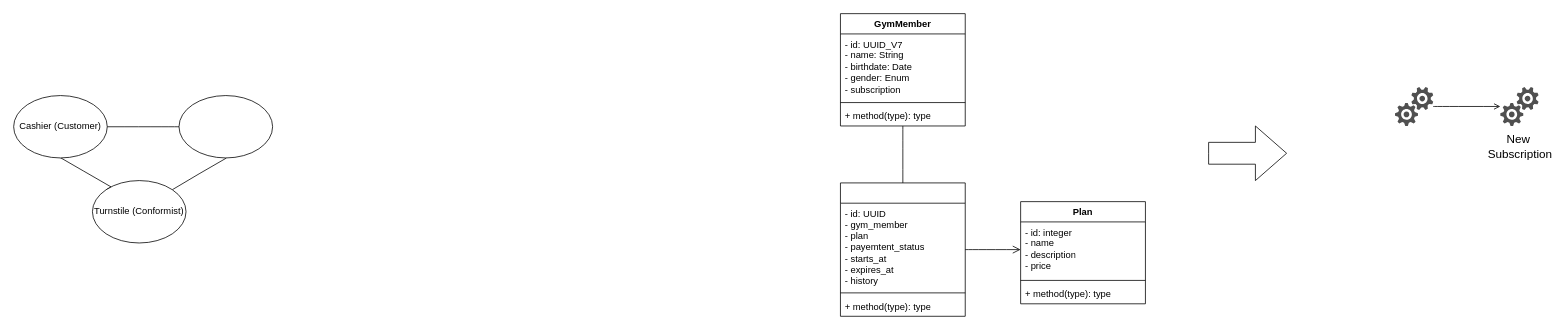
Image size: 1565x332. Some labels were removed from this diagram. Here are the shapes that lost their labels. From the top down, the box of each, then its label:
(178, 95, 273, 158): Purchasing (Supplier)
(1395, 87, 1433, 126): New Gym Member
(840, 182, 965, 316): Subscription
